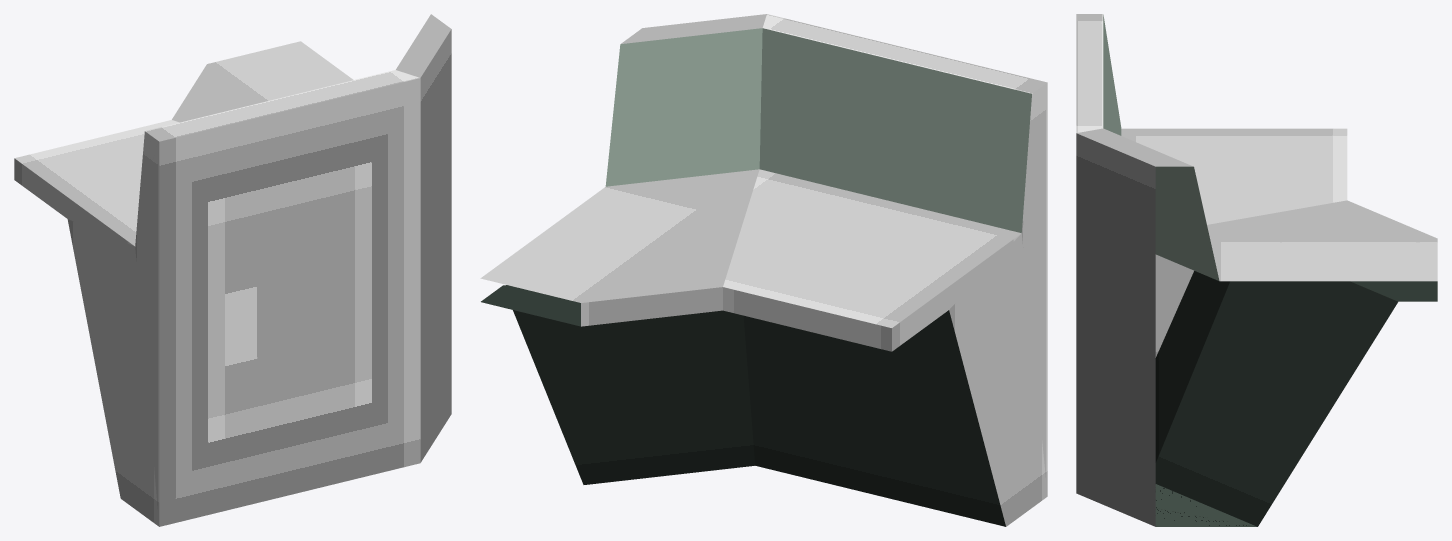
The model's file is desk_corner_inside_4_0_0.obj.
3 views of the same model, side by side, from view 1: azimuth 30°, elevation 25°; view 2: azimuth 150°, elevation 25°; view 3: azimuth 270°, elevation 25° (orthographic). The views are drawn at different scales.
Size of the model in its own units: 1 by 1.1 by 1.
